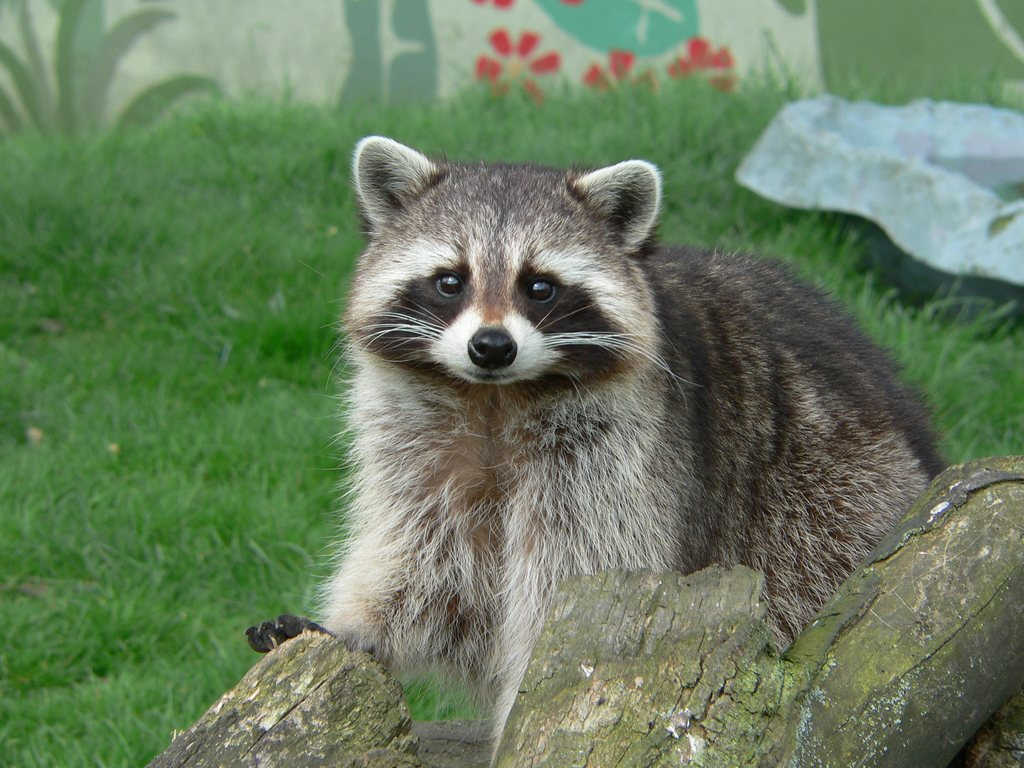raccoon: (321, 136, 952, 662)
